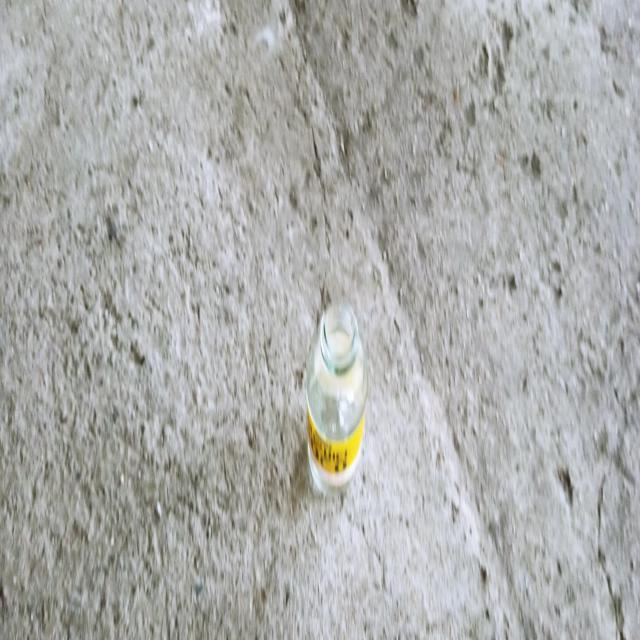glass: (306, 300, 368, 494)
